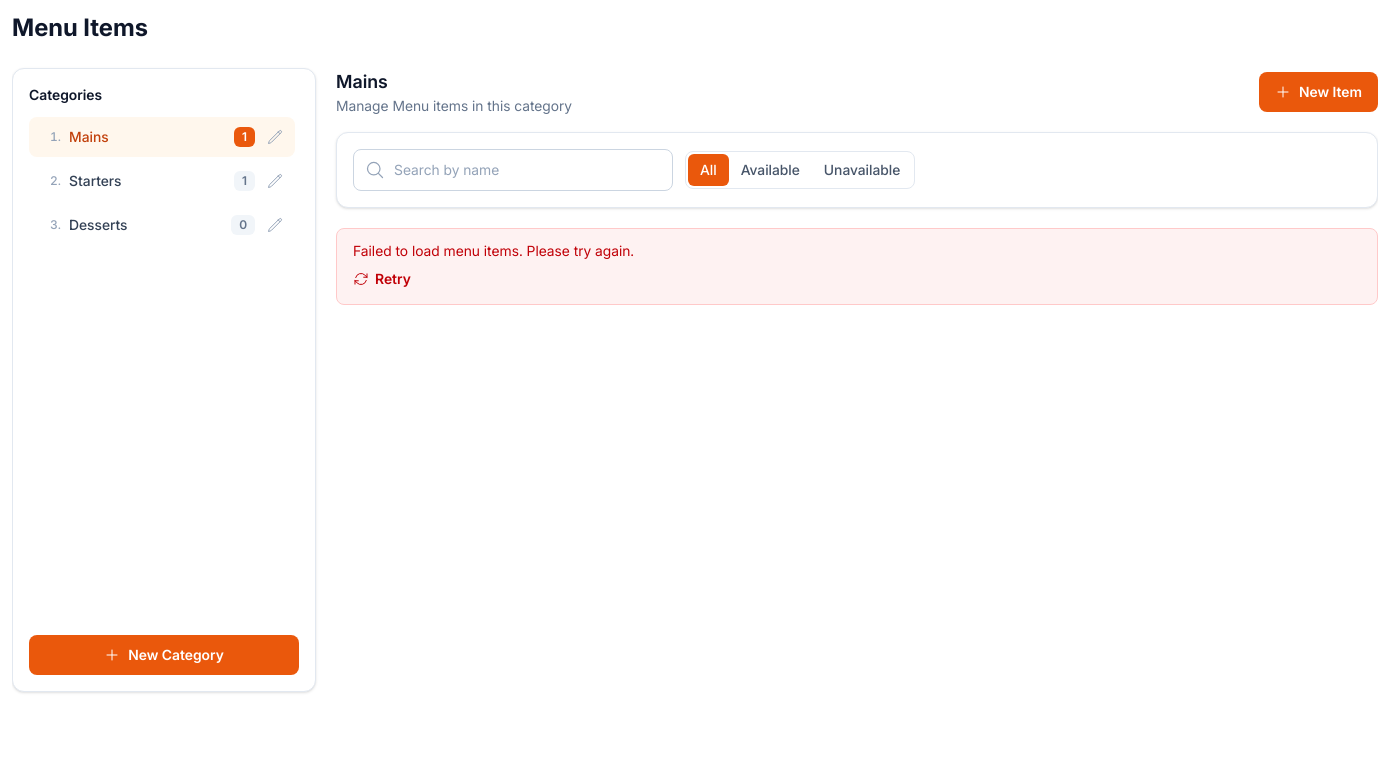
Test: MenuItemsView › clicking Retry refetches menu items after an error
Click the button "Retry" at (382, 279), box [353,269,411,289]
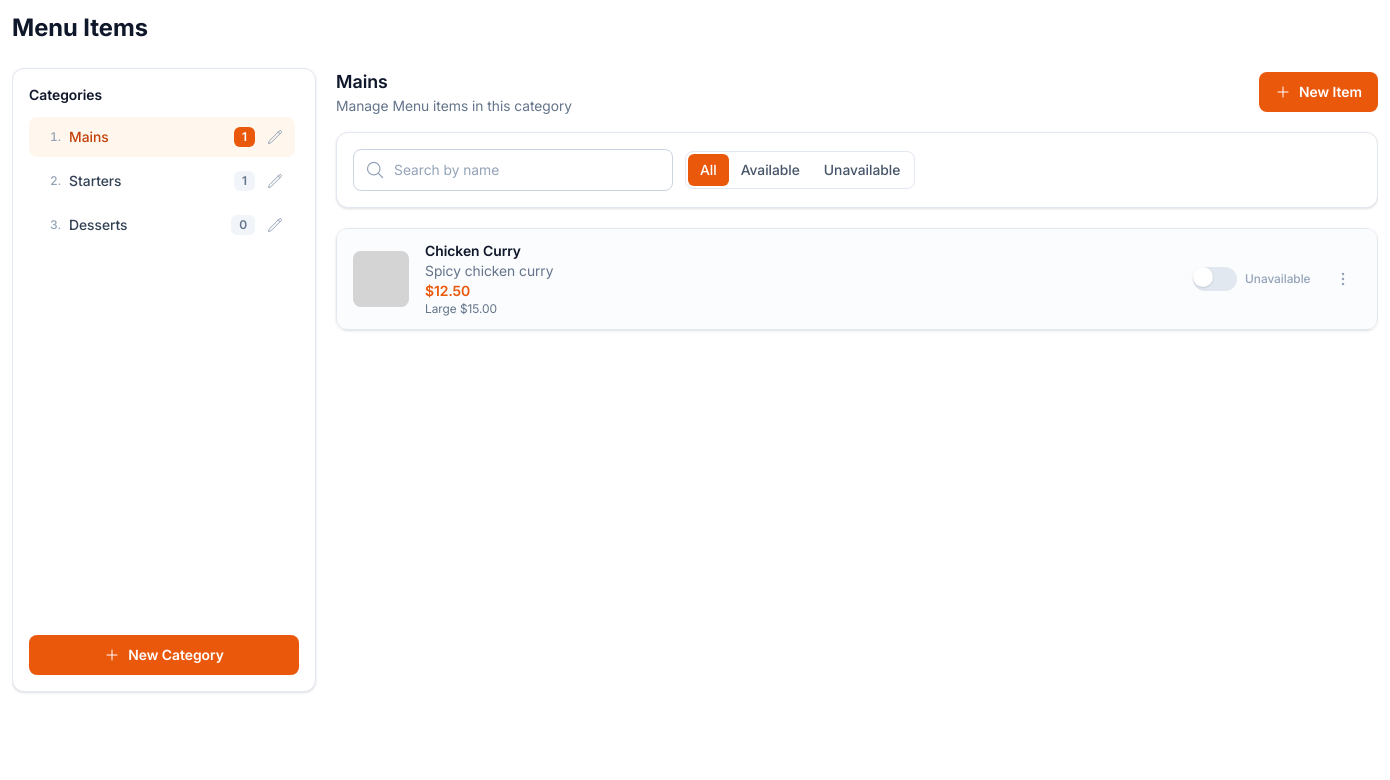
Check: the number of "MenuItemRow" components is 1, box [337,229,1377,329]
